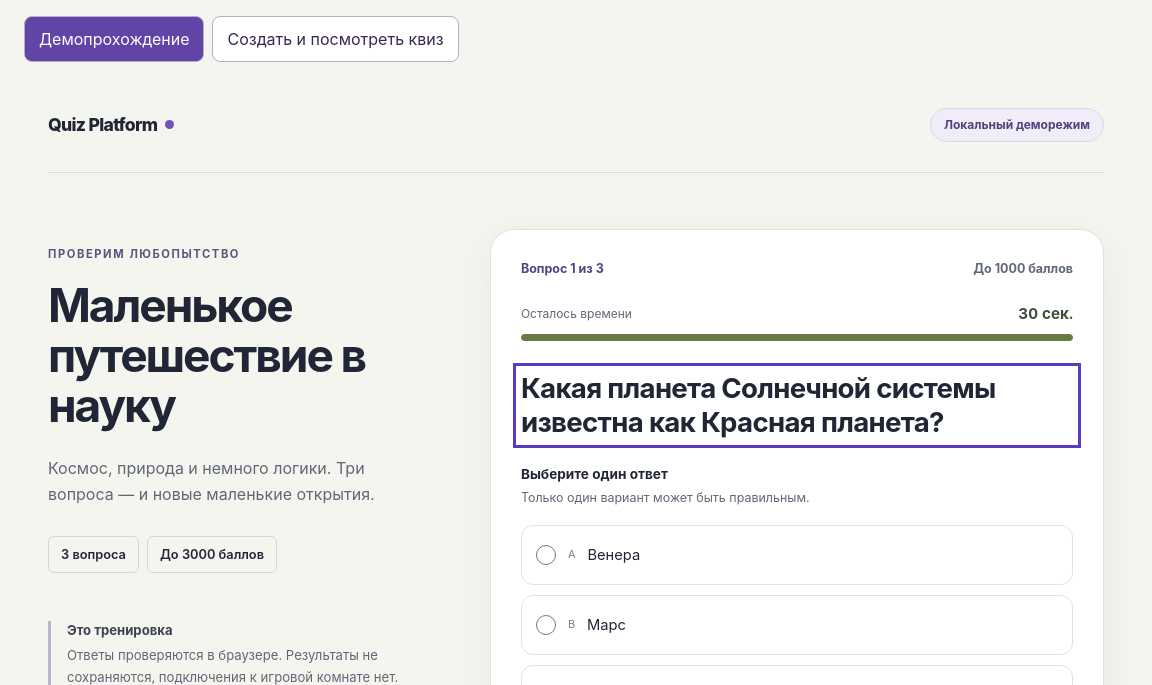
Test: QuizWorkspace › rejects malformed successful response
Click the button "Создать и посмотреть квиз" at (336, 39), box top-left (212, 16), bottom-right (459, 62)
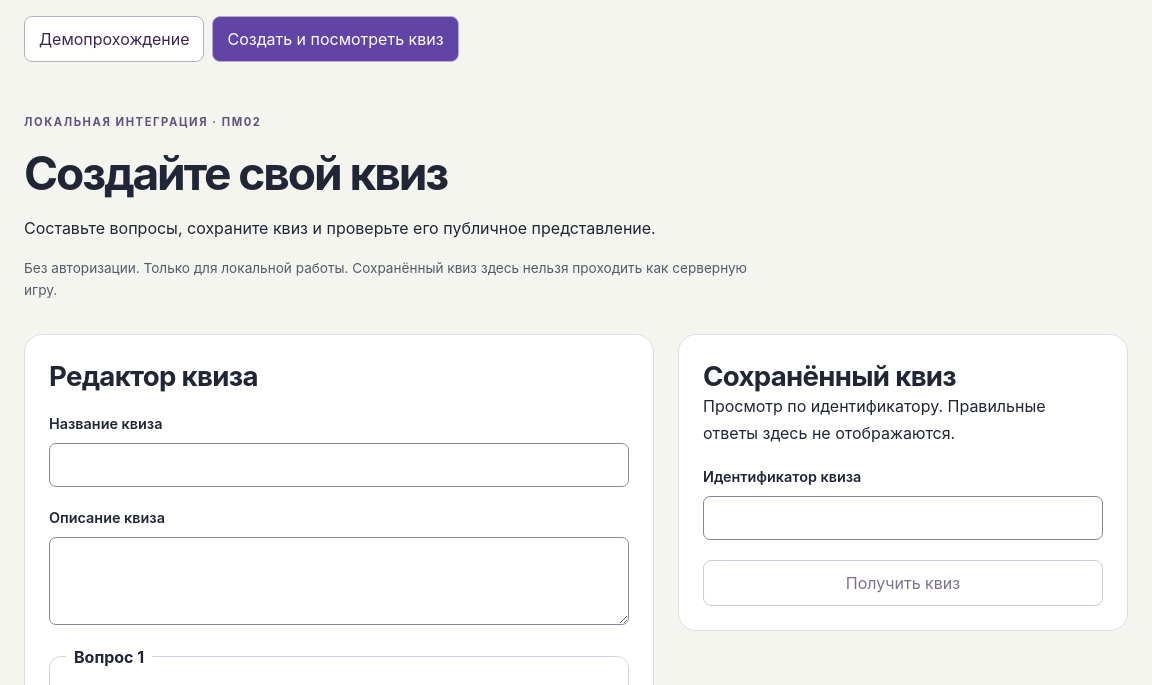
Type "id" into the field labelled "Идентификатор квиза" at (903, 518), box top-left (703, 496), bottom-right (1103, 540)
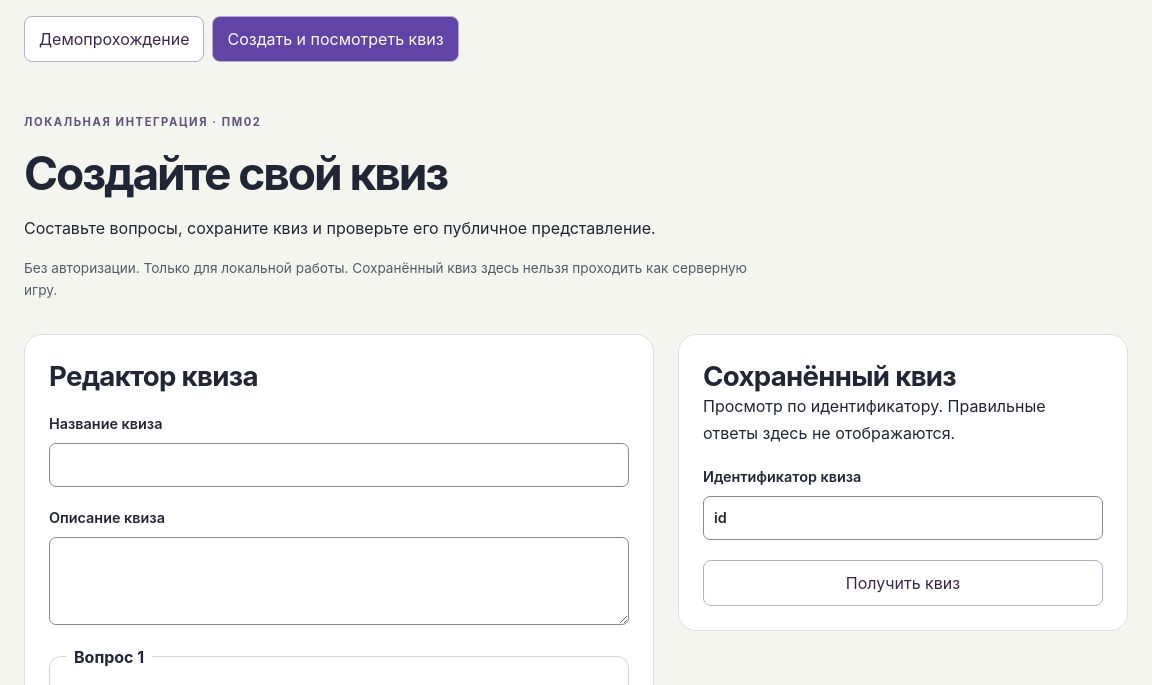
Click the button "Получить квиз" at (903, 583), box top-left (703, 560), bottom-right (1103, 606)
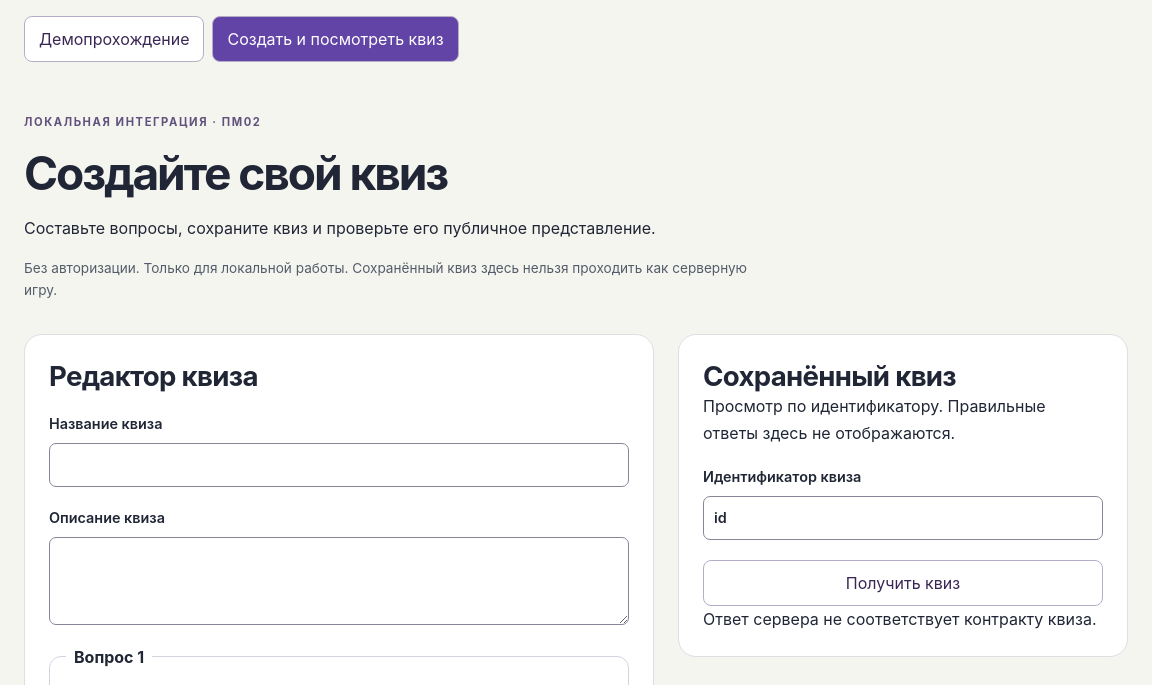
Check: the text "Ответ сервера не соответствует контракту квиза." is shown, box top-left (703, 606), bottom-right (1103, 632)
